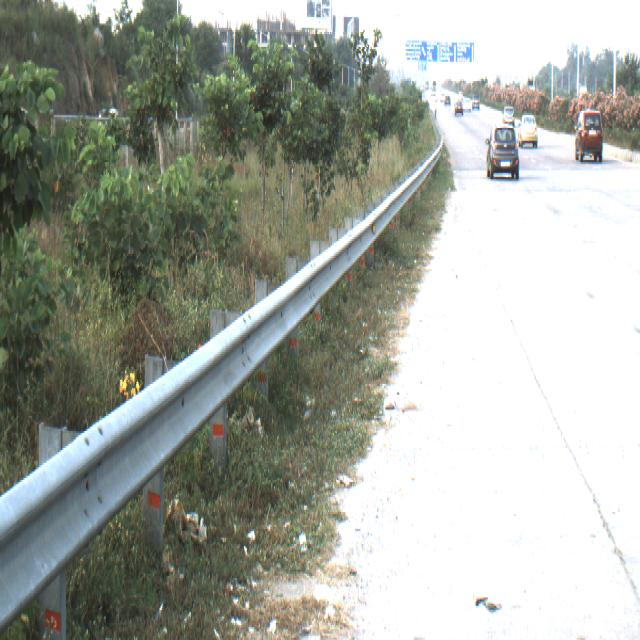car ahead at: (480, 121, 523, 192)
